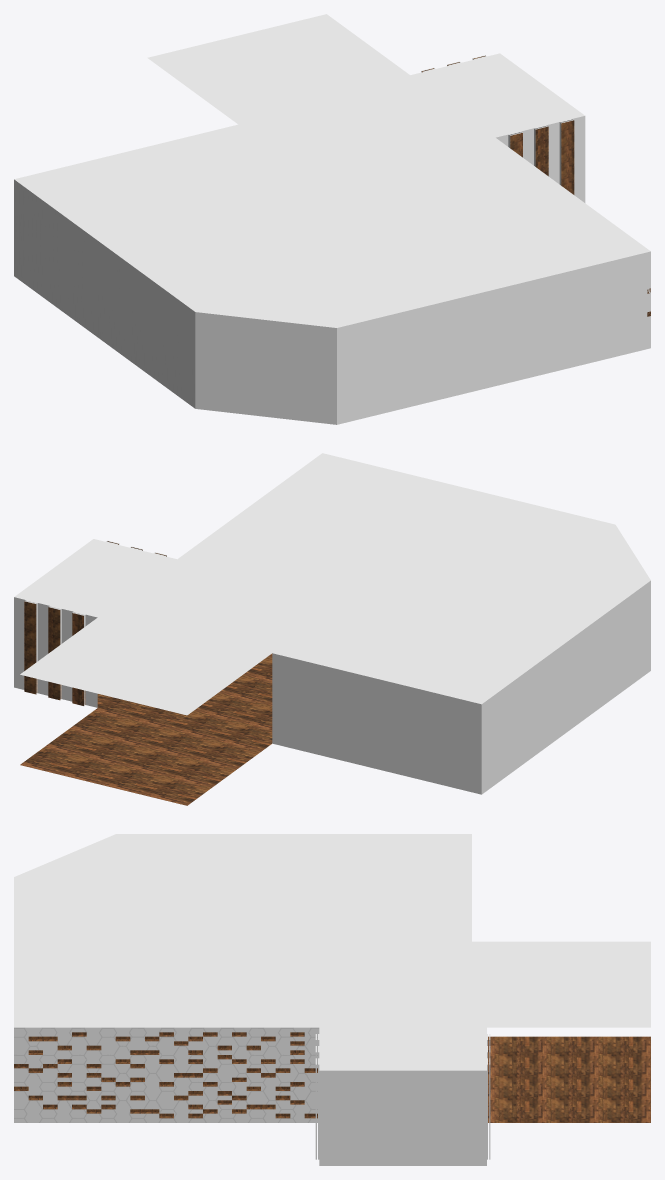
File: ParallelogramFinal.dae
The picture shows the model from 3 angles, top to bottom: view 1: azimuth 30°, elevation 25°; view 2: azimuth 150°, elevation 25°; view 3: azimuth 270°, elevation 25°; orthographic projection. The views are drawn at different scales.
Visible parts, largest first — view 1: Bwallsroof; view 2: Bwallsroof; view 3: Bwallsroof.
Part boxes in pixels (box(x1,y1,x2,y2)): Bwallsroof: box(14, 14, 650, 424); Bwallsroof: box(14, 453, 650, 805); Bwallsroof: box(14, 834, 650, 1165).
Size of the model in its own units: 16 by 18.21 by 3.
